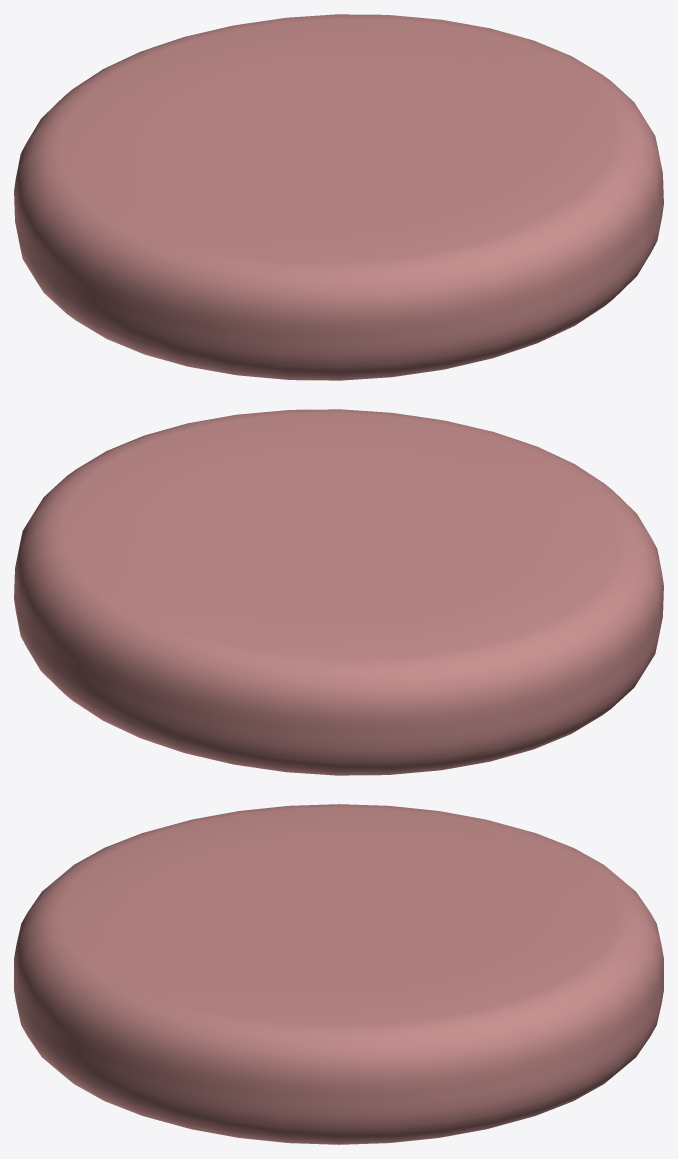
File: patty.fbx
The picture shows the model from 3 angles, top to bottom: view 1: azimuth 30°, elevation 25°; view 2: azimuth 150°, elevation 25°; view 3: azimuth 270°, elevation 25°; orthographic projection.
Parts seen in each view (by area): view 1: raw_patty2; view 2: raw_patty2; view 3: raw_patty2.
Boxes of the visible parts, x1,y1,x2,y2 form: raw_patty2: (14, 14, 663, 380); raw_patty2: (14, 409, 663, 775); raw_patty2: (14, 804, 663, 1144).
Bounding box in the file's own units: 14.83 × 3.33 × 14.81.
